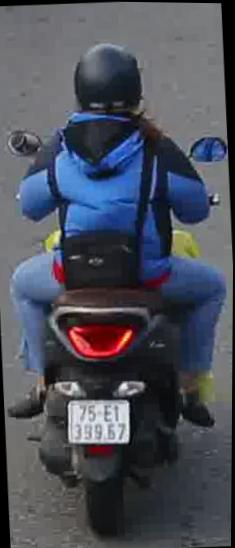LP: (62, 391, 135, 448)
helmet: (63, 34, 149, 121)
